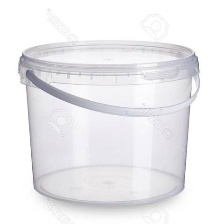plastic_box: (12, 29, 209, 211)
